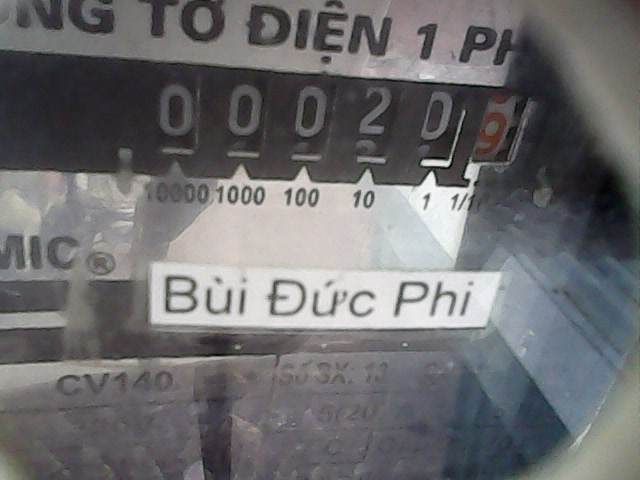phy_plate: (145, 59, 542, 212)
